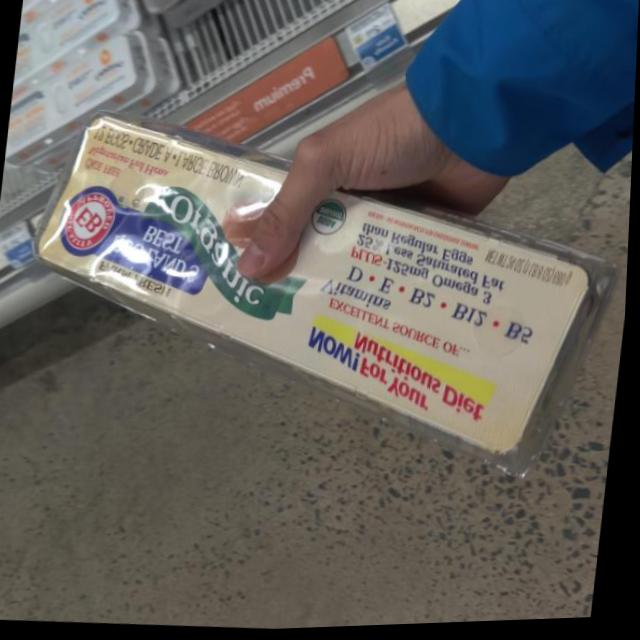Eggs: (0, 78, 612, 509)
